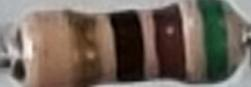Black: (107, 10, 148, 85)
Brown: (153, 2, 189, 85)
Green: (196, 0, 232, 82)
Side-Gold: (63, 9, 105, 87)
